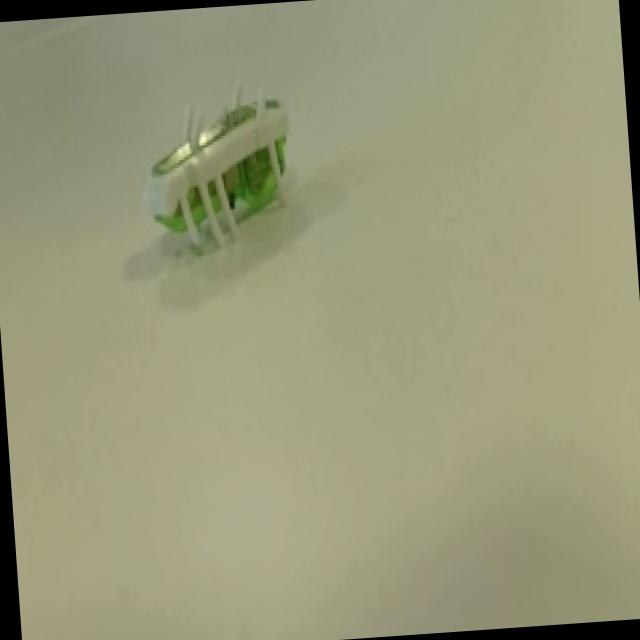4_NanoBug_Blanco: (112, 42, 322, 308)
